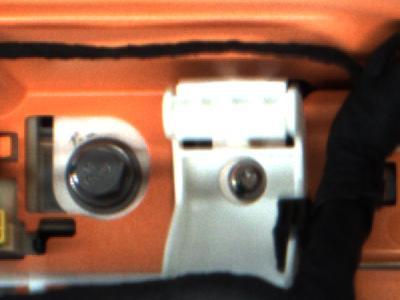nut_b: (59, 134, 147, 215)
